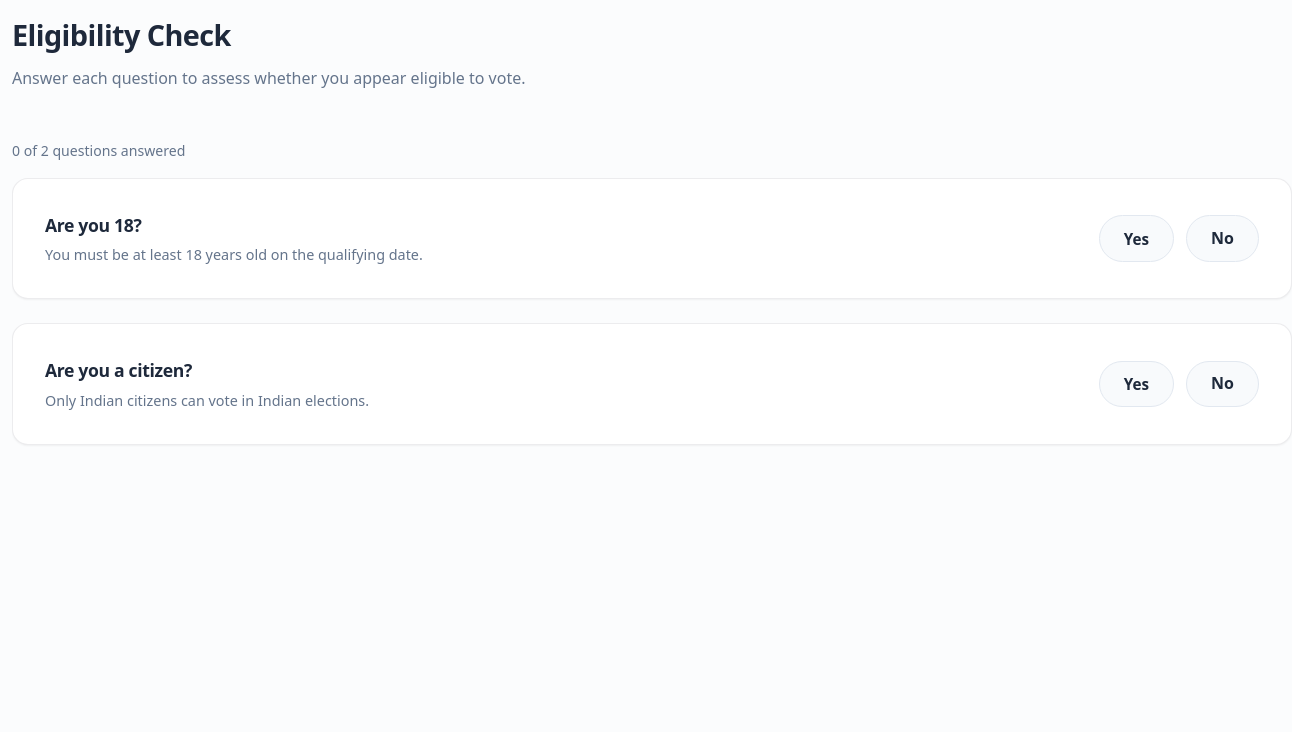
Test: EligibilityChecker › shows the eligible result when all answers are yes
The width and height of the screenshot is (1292, 732).
Expected: the heading "Are you 18?" is shown, x1=45 y1=213 x2=141 y2=237
Click the button with aria-label "Yes,".
click(1136, 239)  # box x1=1099 y1=215 x2=1174 y2=262
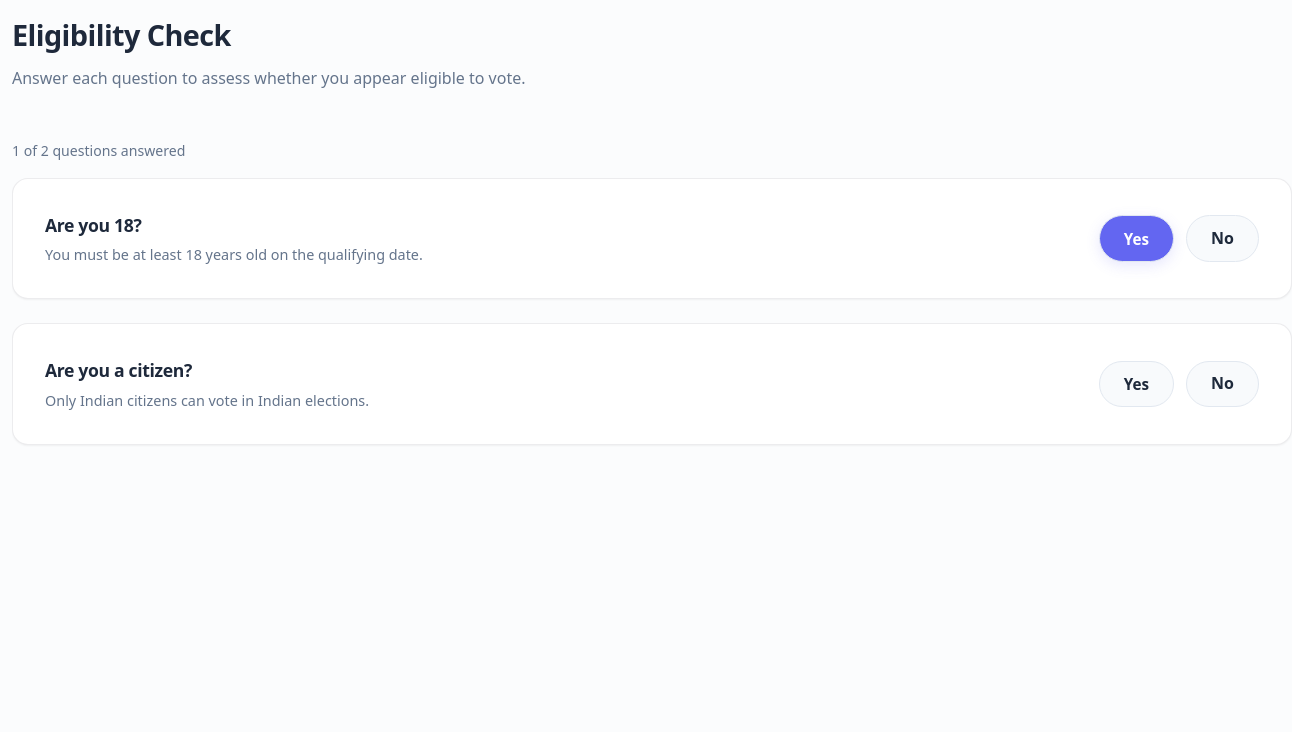
Click the button with aria-label "Yes,".
click(1136, 384)  # box x1=1099 y1=361 x2=1174 y2=407
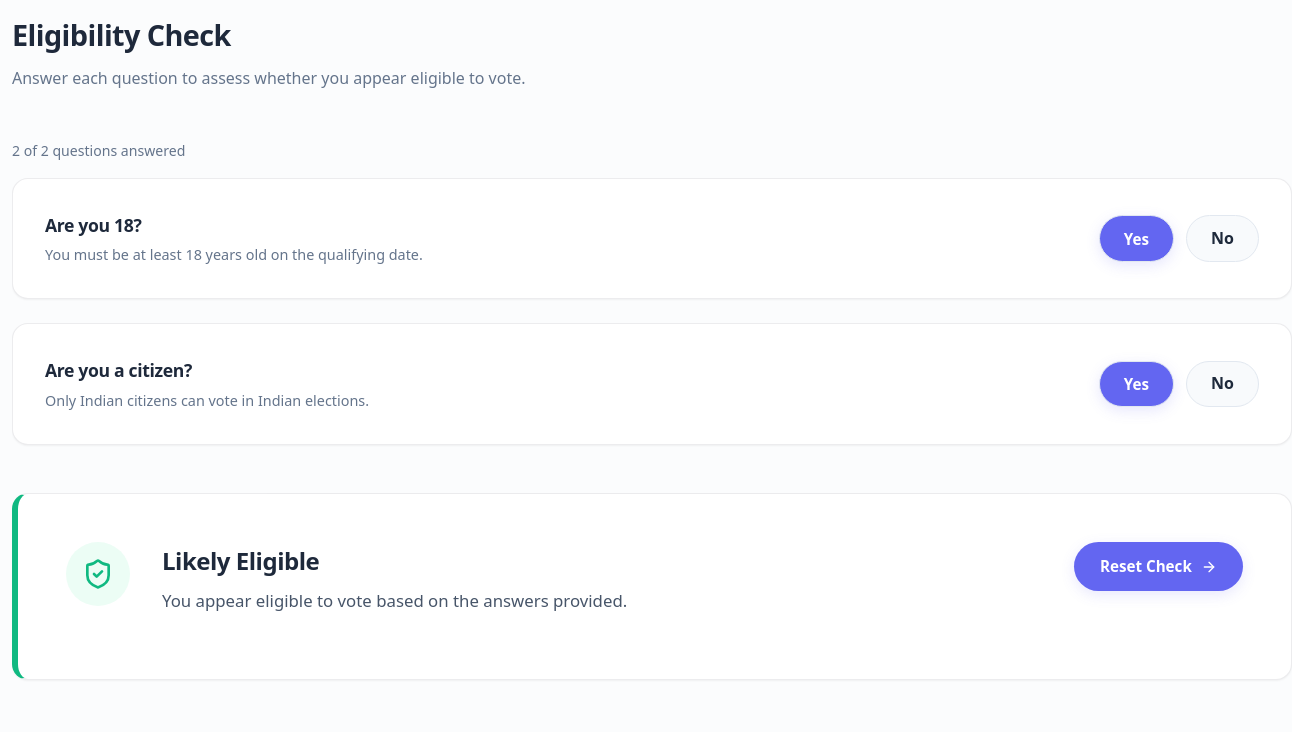
Expected: the heading "Likely Eligible" is shown, x1=162 y1=544 x2=319 y2=576
